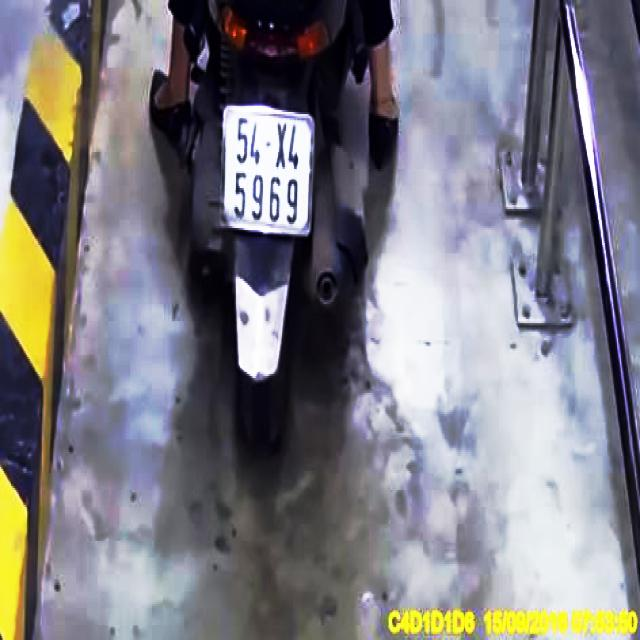license_plate: (225, 111, 314, 235)
